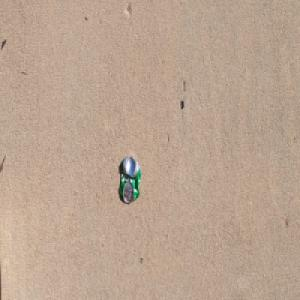SodaCan: (119, 155, 141, 205)
